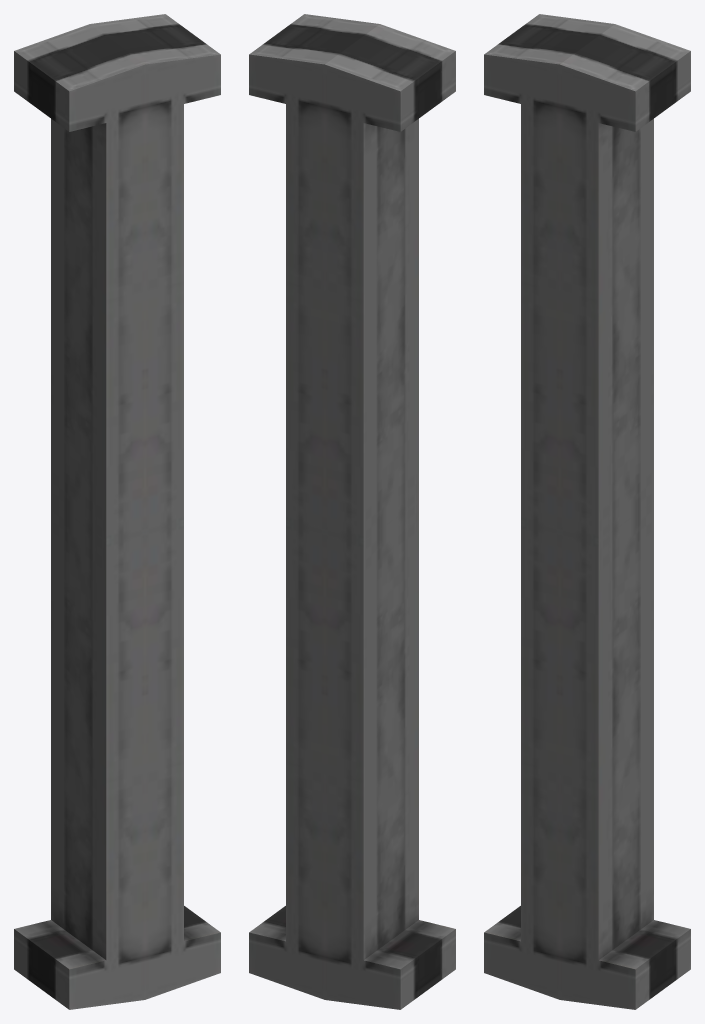
The model's file is Part - Column 09-UXsrPrIo.glb.
The picture shows the model from 3 angles, left to right: view 1: azimuth 30°, elevation 25°; view 2: azimuth 150°, elevation 25°; view 3: azimuth 330°, elevation 25°; orthographic projection.
Parts seen in each view (by area): view 1: Column_09; view 2: Column_09; view 3: Column_09.
Part boxes in pixels (<box>): Column_09: <box>14,14,220,1009</box>; Column_09: <box>249,14,455,1009</box>; Column_09: <box>484,14,690,1009</box>.
Size of the model in its own units: 0.2379 by 1.4 by 0.1505.
Materials: 1 (1 with a texture image).
